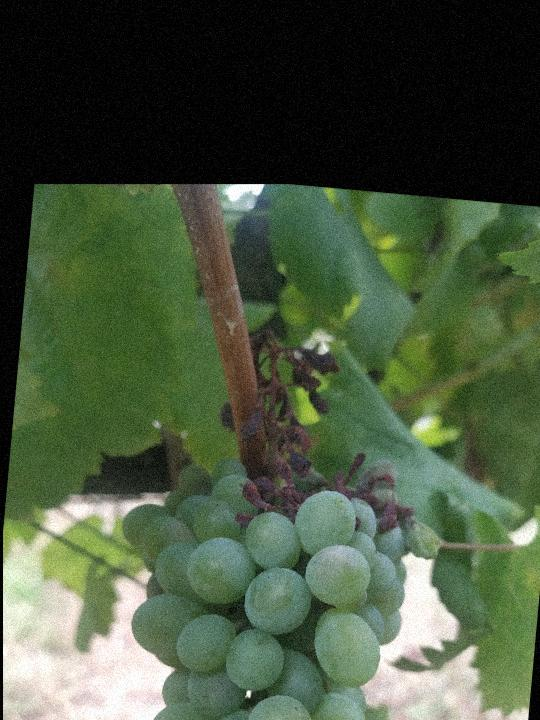grape: (87, 314, 464, 720)
